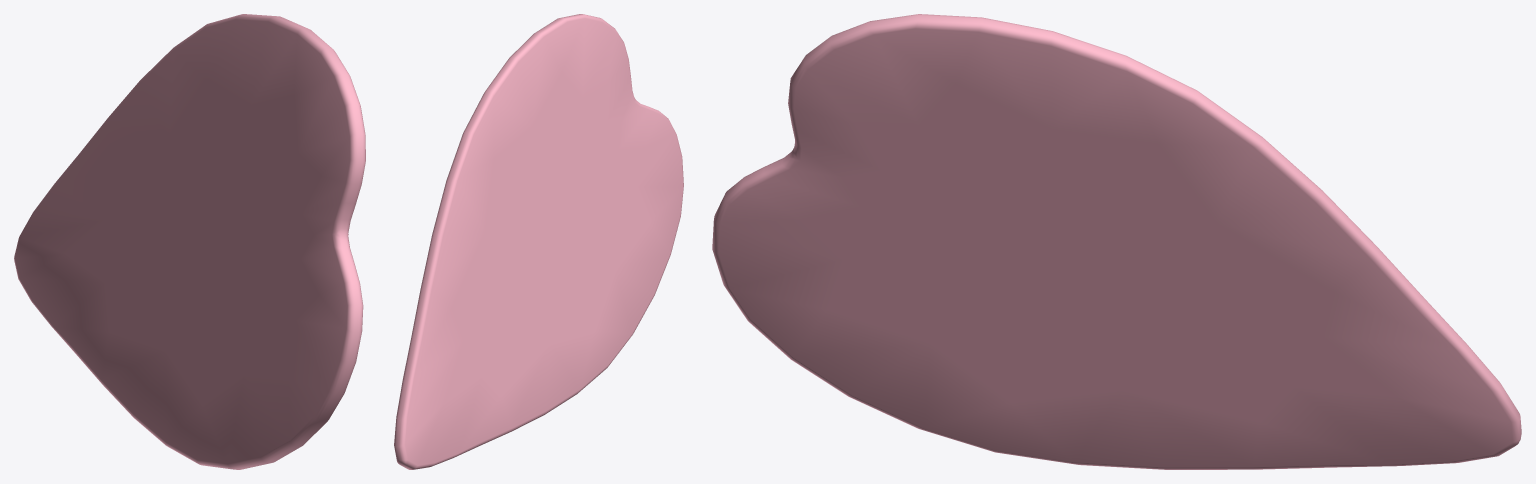
The model's file is pinkFlower_6.glb.
The picture shows the model from 3 angles, left to right: view 1: azimuth 30°, elevation 25°; view 2: azimuth 150°, elevation 25°; view 3: azimuth 270°, elevation 25°; orthographic projection. The views are drawn at different scales.
Parts seen in each view (by area): view 1: Petal_01_Sakura_Cleft.095; view 2: Petal_01_Sakura_Cleft.095; view 3: Petal_01_Sakura_Cleft.095.
Part boxes in pixels (x1,y1,x2,y2): Petal_01_Sakura_Cleft.095: [14, 14, 365, 469]; Petal_01_Sakura_Cleft.095: [394, 14, 683, 469]; Petal_01_Sakura_Cleft.095: [712, 14, 1521, 469].
Size of the model in its own units: 0.5734 by 2.14 by 3.16.
